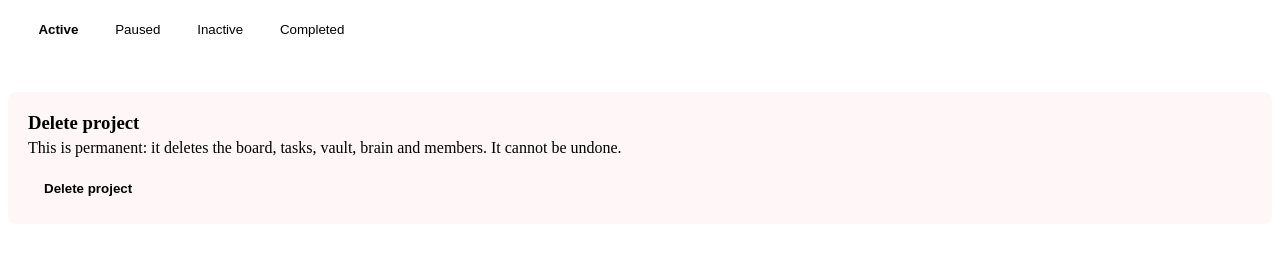
Test: ProjectLifecyclePanel › shows an error when changing status fails
The image size is (1280, 259).
Click the button "Inactive" at (220, 30), box [183,16,258,44]
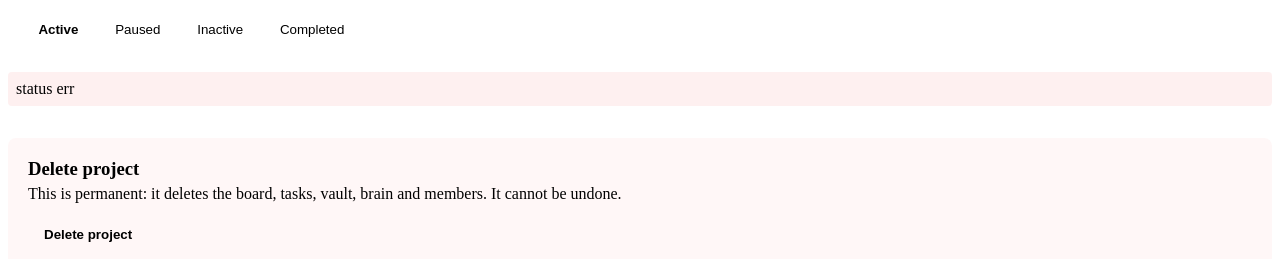
Check: the text "status err" is shown, box [8,72,1272,106]
